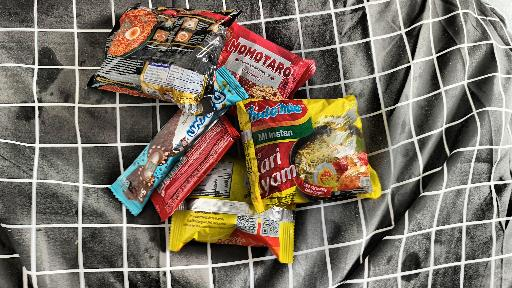indomie: (225, 95, 395, 212)
mie sedap: (80, 12, 249, 102)
